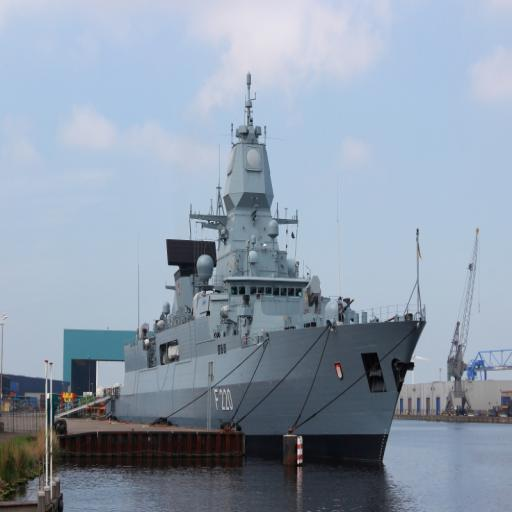Fragata: (101, 66, 435, 475)
